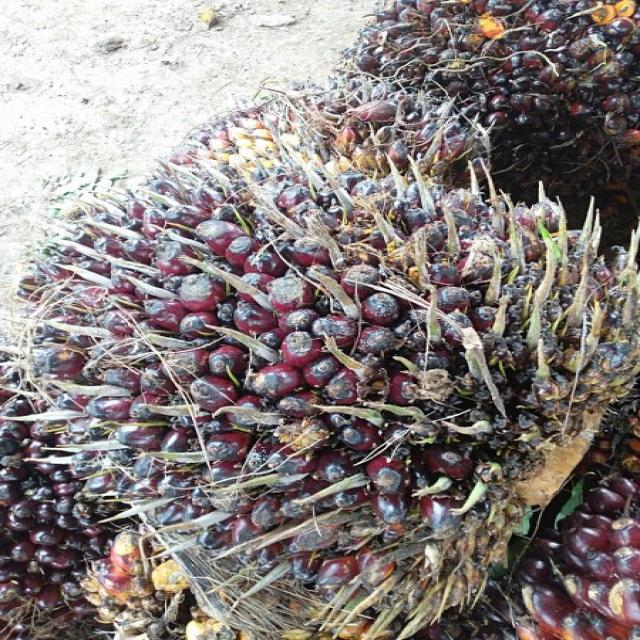fraksi 1: (0, 85, 624, 602)
